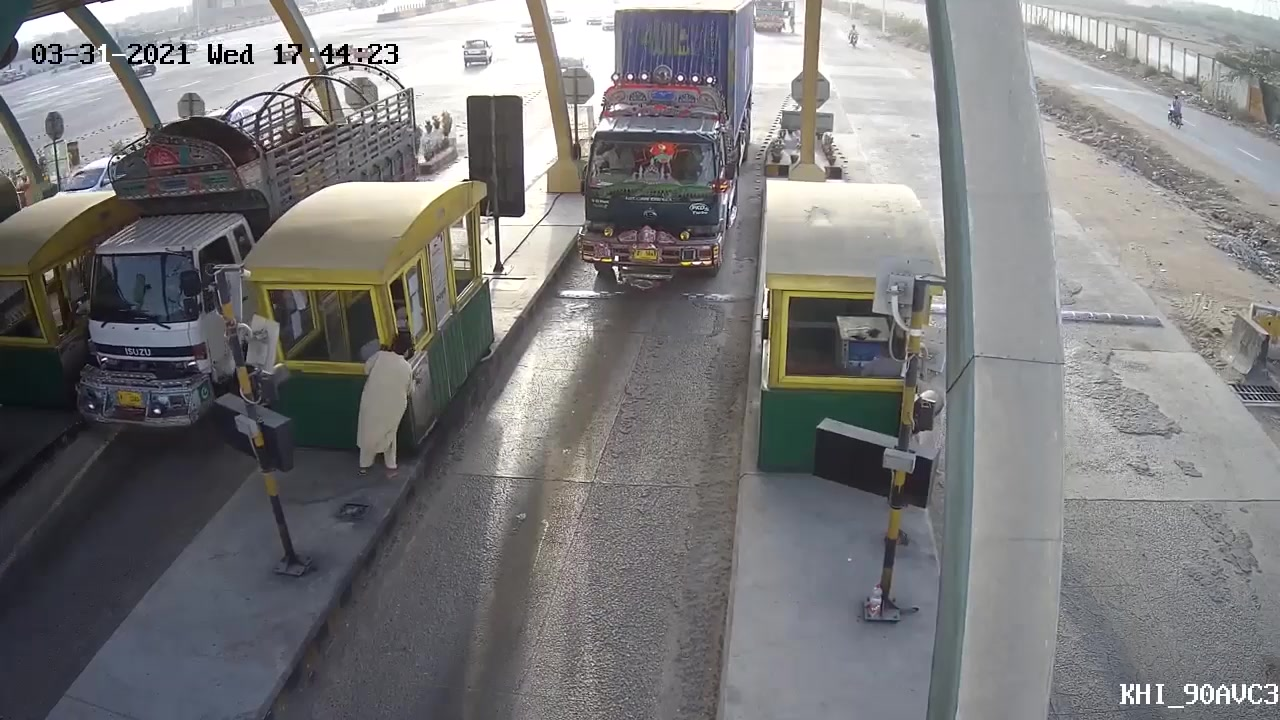F6: (561, 1, 764, 307)
